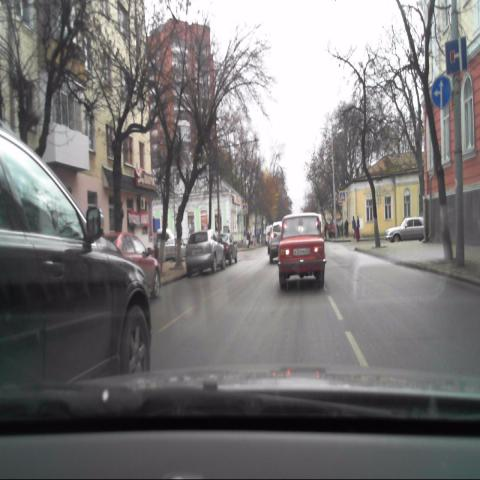4_1_5: (430, 74, 452, 108)
6_8_3: (445, 36, 468, 74)
